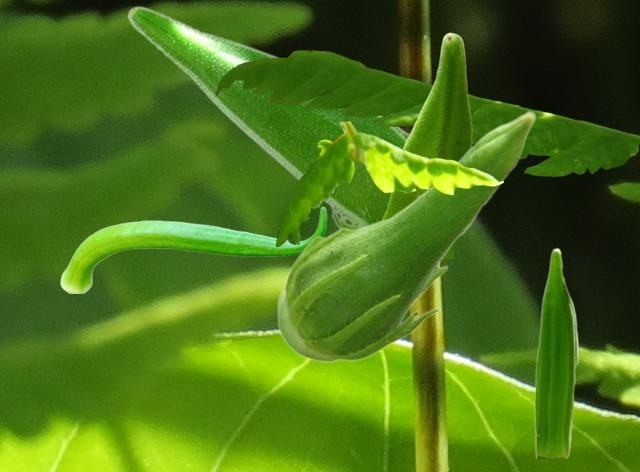okra: (126, 5, 452, 257), (276, 110, 536, 362), (60, 206, 326, 292), (381, 32, 471, 219), (534, 247, 578, 457)
